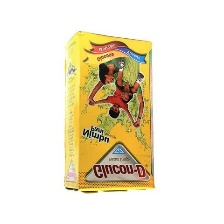carton: (54, 28, 172, 197)
